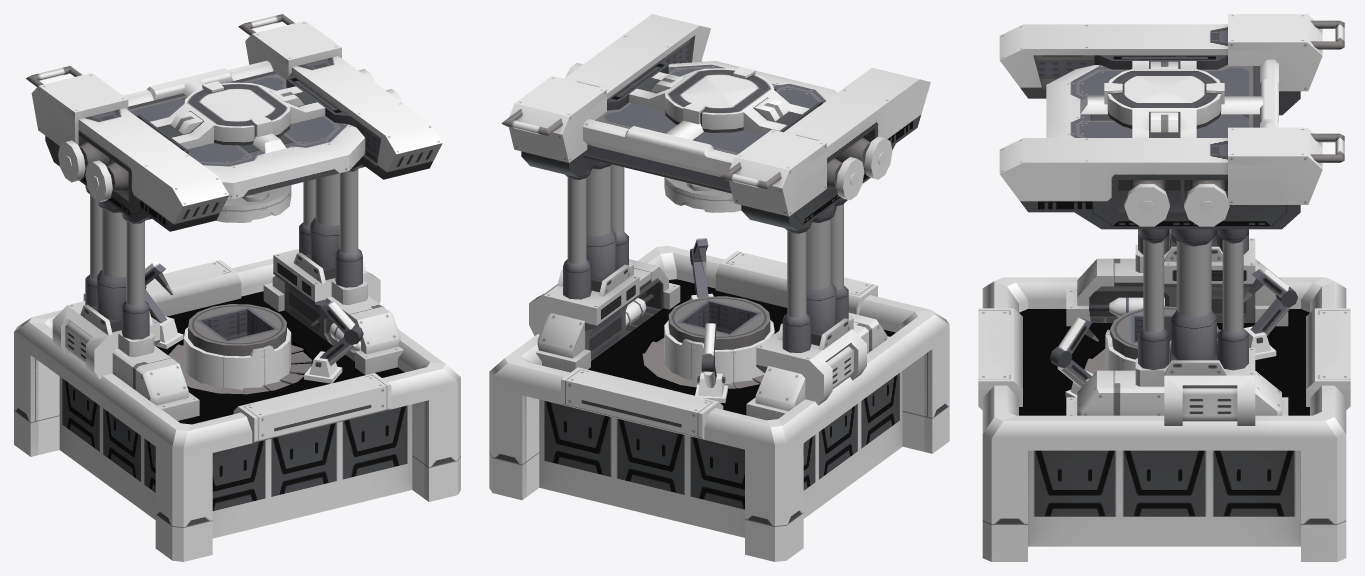
File: assembler-1.glb
The picture shows the model from 3 angles, left to right: view 1: azimuth 30°, elevation 25°; view 2: azimuth 150°, elevation 25°; view 3: azimuth 270°, elevation 25°; orthographic projection. The views are drawn at different scales.
Parts seen in each view (by area): view 1: assembler-mk-1, assembler-mk-a1, assembler-mk-b1, assembler-mk-a1-2, assembler-mk-a3, assembler-mk-c, assembler-mk-f1, assembler-mk-f2, assembler-mk-d1-2, assembler-mk-d1; view 2: assembler-mk-1, assembler-mk-a1, assembler-mk-a1-2, assembler-mk-b1, assembler-mk-a3, assembler-mk-c, assembler-mk-f1, assembler-mk-f2, assembler-mk-d2, assembler-mk-d2-2; view 3: assembler-mk-1, assembler-mk-a1, assembler-mk-a1-2, assembler-mk-b1, assembler-mk-f2, assembler-mk-f1, assembler-mk-d1-2, assembler-mk-d2-2, assembler-mk-d2-1, assembler-mk-d2.
Boxes of the visible parts, <box> form: assembler-mk-1: <box>14,218,460,561</box>; assembler-mk-a1: <box>26,14,442,231</box>; assembler-mk-b1: <box>183,304,291,390</box>; assembler-mk-a1-2: <box>90,169,358,305</box>; assembler-mk-a3: <box>216,185,291,222</box>; assembler-mk-c: <box>168,344,312,394</box>; assembler-mk-f1: <box>85,89,402,202</box>; assembler-mk-f2: <box>58,69,375,182</box>; assembler-mk-d1-2: <box>320,301,363,344</box>; assembler-mk-d1: <box>304,351,342,383</box>; assembler-mk-1: <box>489,228,949,561</box>; assembler-mk-a1: <box>501,14,930,233</box>; assembler-mk-a1-2: <box>567,164,843,317</box>; assembler-mk-b1: <box>664,296,774,384</box>; assembler-mk-a3: <box>664,177,741,212</box>; assembler-mk-c: <box>642,337,763,388</box>; assembler-mk-f1: <box>566,63,892,179</box>; assembler-mk-f2: <box>836,157,864,200</box>; assembler-mk-d2: <box>695,373,727,402</box>; assembler-mk-d2-2: <box>701,323,716,371</box>; assembler-mk-1: <box>978,229,1350,561</box>; assembler-mk-a1: <box>999,14,1344,246</box>; assembler-mk-a1-2: <box>1143,240,1243,332</box>; assembler-mk-b1: <box>1105,306,1220,370</box>; assembler-mk-f2: <box>1184,184,1229,226</box>; assembler-mk-f1: <box>1124,184,1169,226</box>; assembler-mk-d1-2: <box>1050,317,1092,367</box>; assembler-mk-d2-2: <box>1251,267,1297,307</box>; assembler-mk-d2-1: <box>1250,298,1289,335</box>; assembler-mk-d2: <box>1244,326,1276,359</box>.
Size of the model in its own units: 4.17 by 4.85 by 4.09.
1 material, 1 textured.
